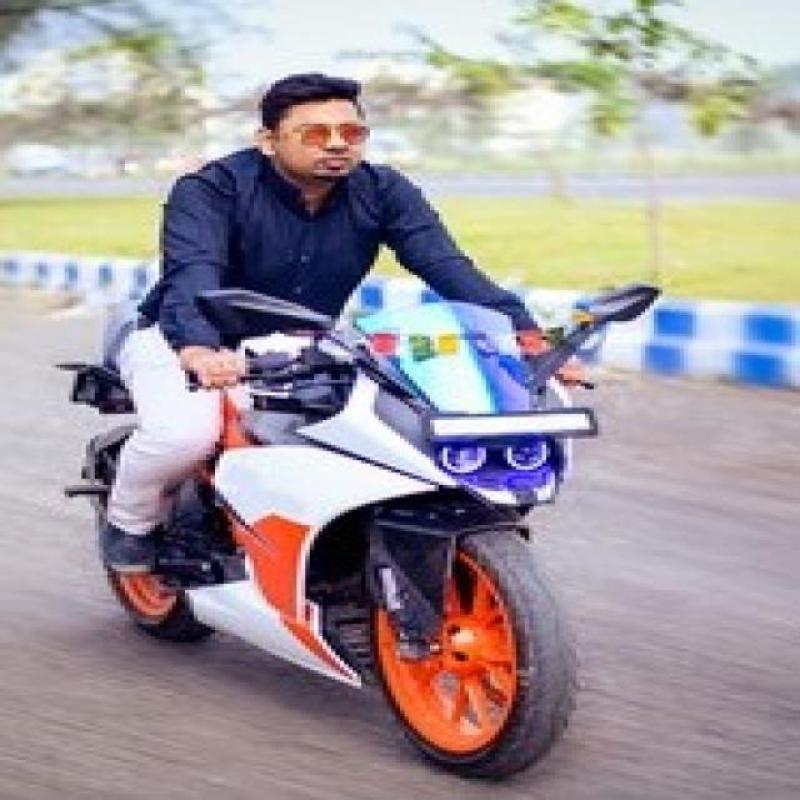nohelmet: (254, 57, 384, 198)
